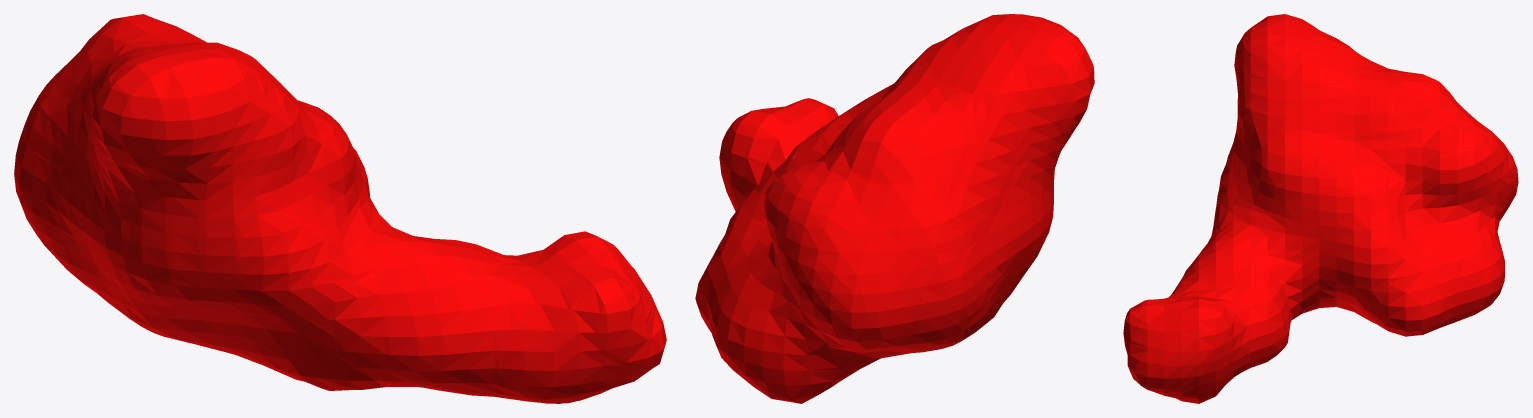
The model's file is rpsT_coarse.dae.
The picture shows the model from 3 angles, left to right: view 1: azimuth 30°, elevation 25°; view 2: azimuth 150°, elevation 25°; view 3: azimuth 270°, elevation 25°; orthographic projection. The views are drawn at different scales.
Parts seen in each view (by area): view 1: rpsT; view 2: rpsT; view 3: rpsT.
Boxes of the visible parts, x1=… form: rpsT: x1=14, y1=14, x2=666, y2=403; rpsT: x1=695, y1=14, x2=1094, y2=403; rpsT: x1=1123, y1=14, x2=1518, y2=403.
Bounding box in the file's own units: 45.84 × 34.99 × 47.36.
